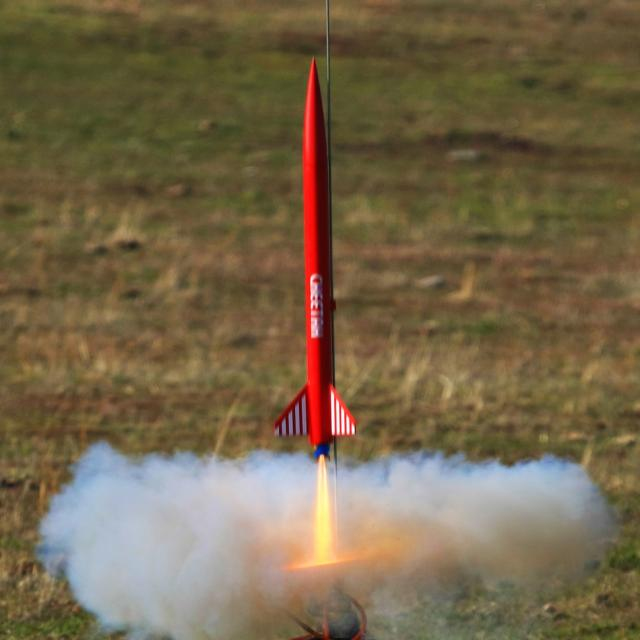rocket: (288, 59, 359, 483)
